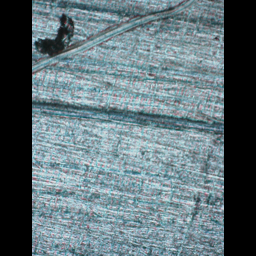d: (32, 0, 203, 74)
